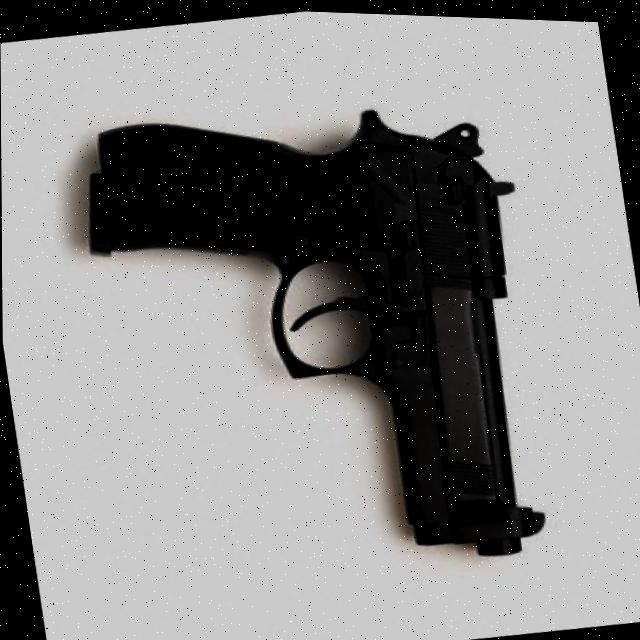pistol: (70, 66, 574, 607)
